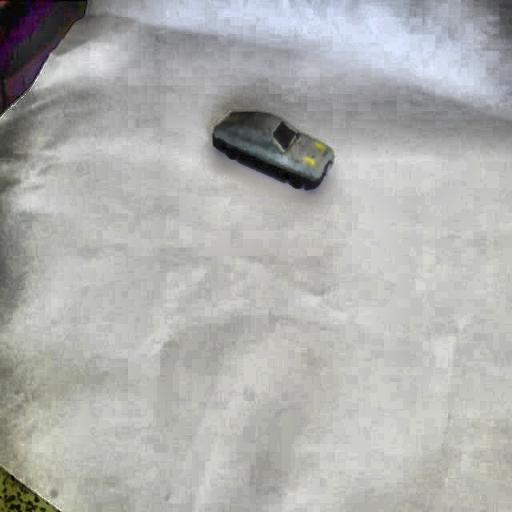normal_car: (207, 103, 333, 194)
